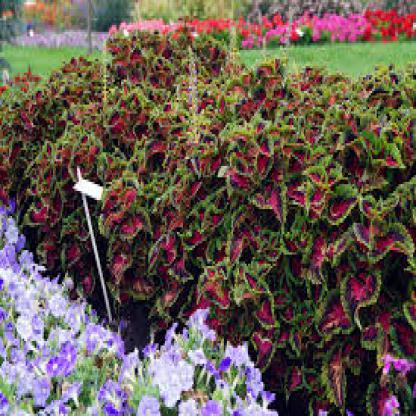Bunga Coleus: (22, 53, 402, 315)
